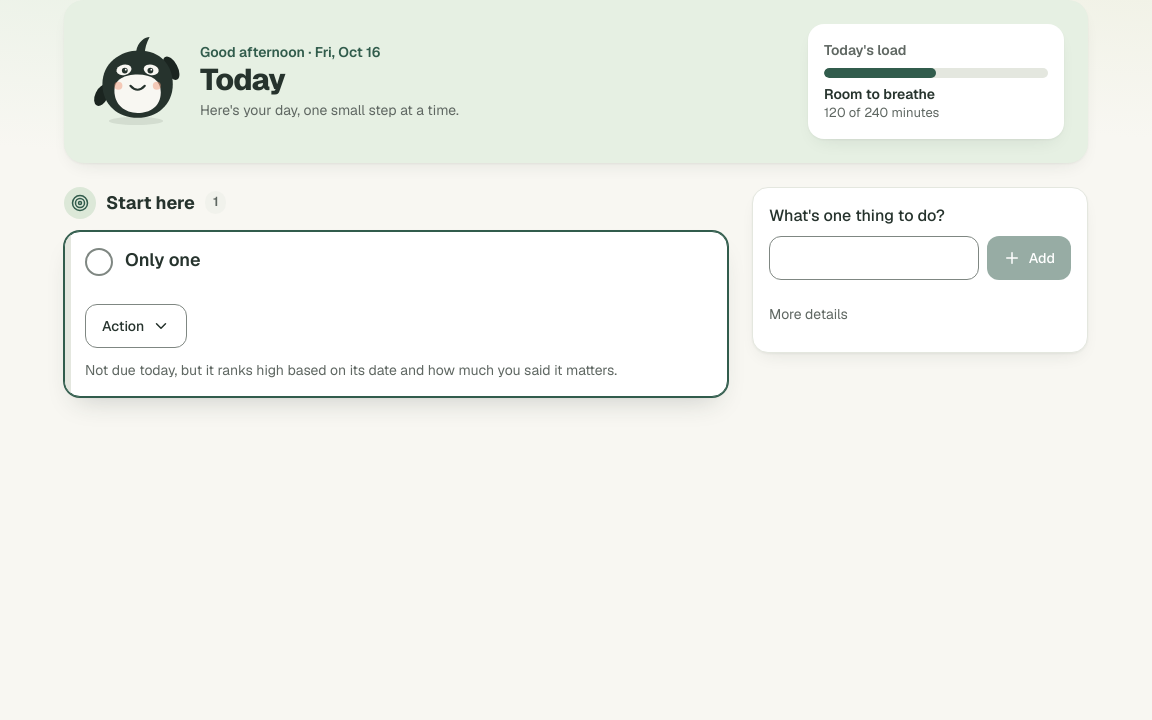
Test: TodayView › refreshes the top 3 after marking one done, and celebrates an all-done day
Click the checkbox labelled "Only one". click: [99, 262]
box: [85,248,113,276]
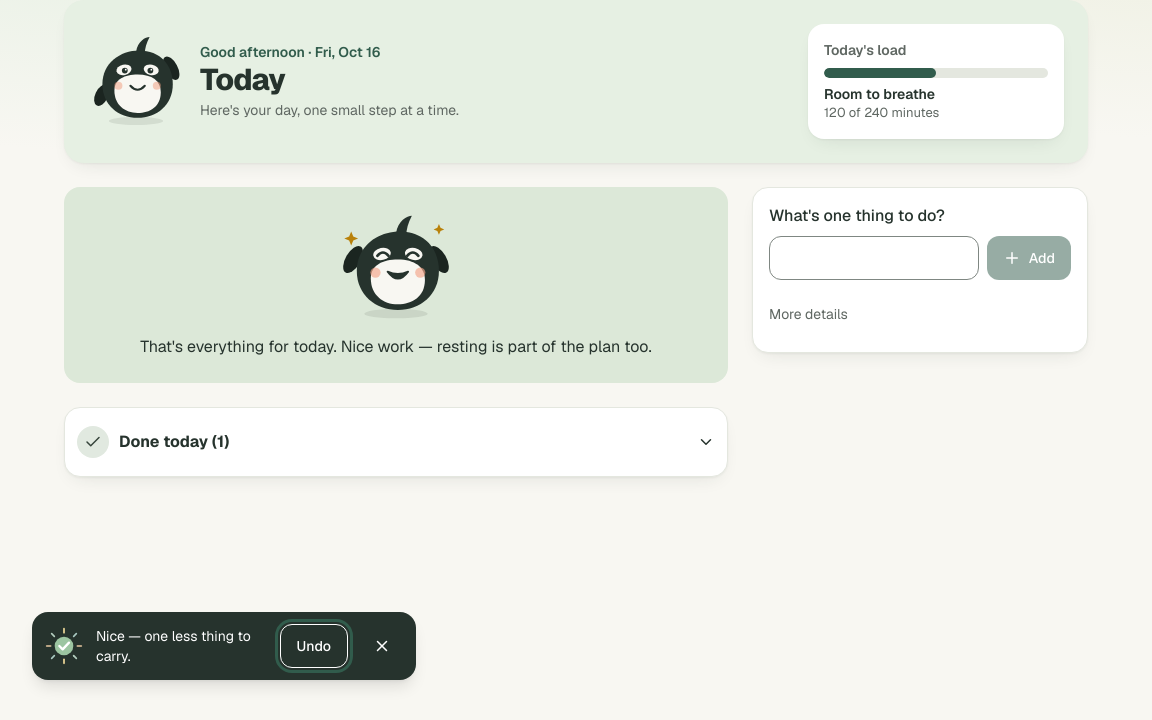
Result: the text "That's everything for today" is shown at [140,336,652,357]
Result: the text "Done today (1)" is shown at [119,431,229,452]
Result: the 2nd picture is shown at [340,211,452,323]
